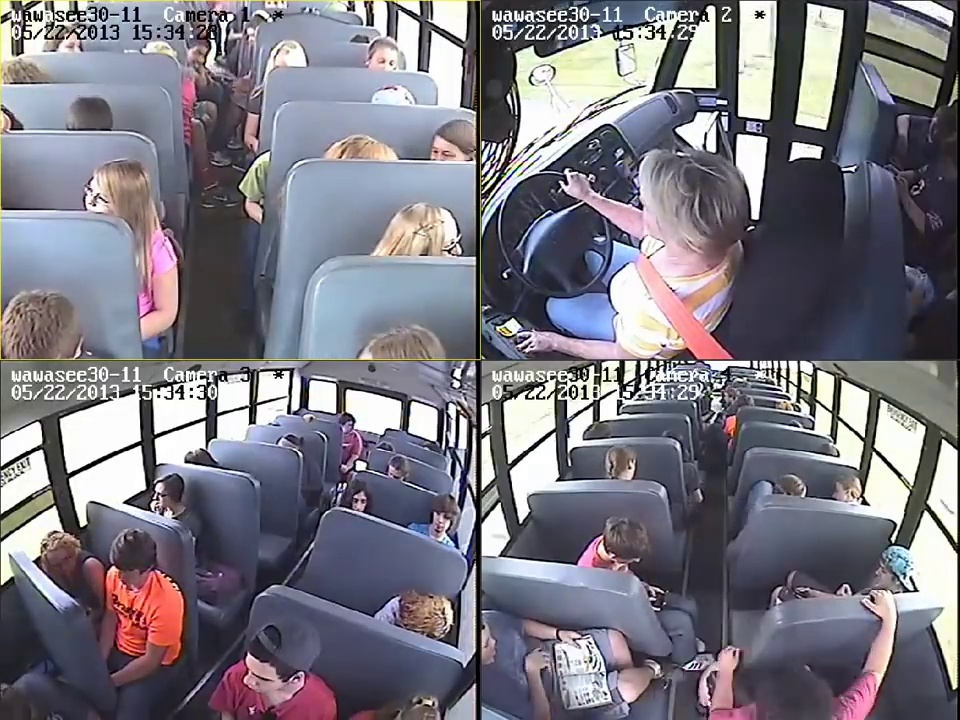face: (429, 216, 464, 261), (85, 173, 120, 212), (429, 130, 466, 157), (348, 487, 370, 513), (431, 505, 451, 531), (150, 486, 172, 509)
